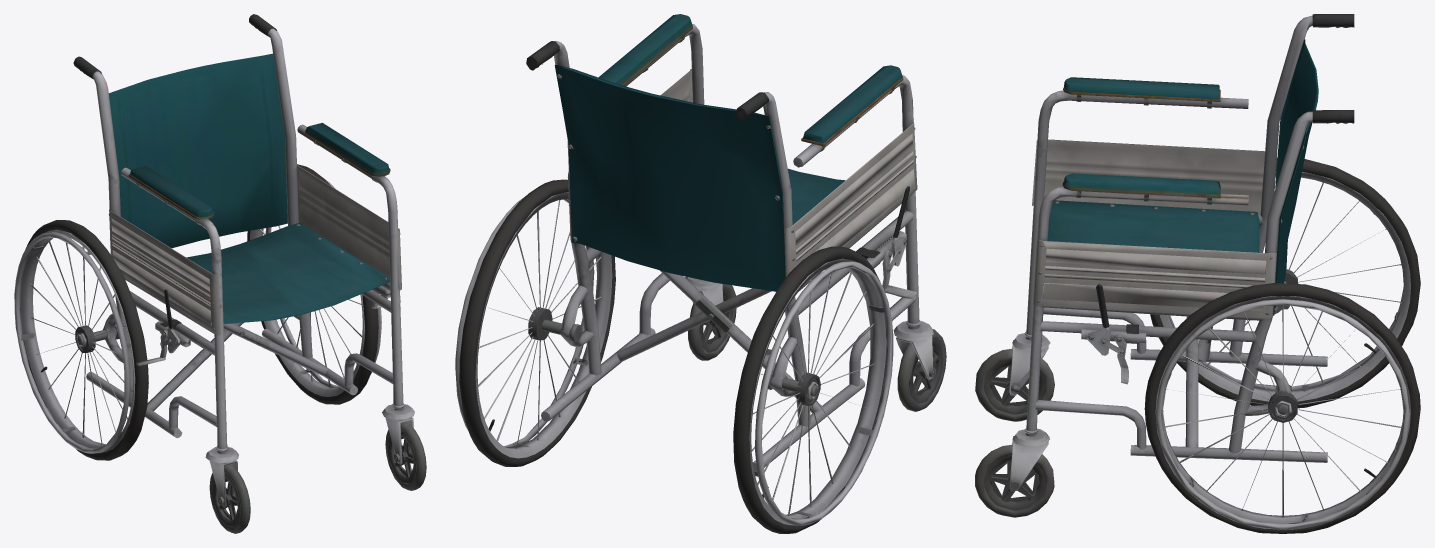
The model's file is wheelchair_01.glb.
3 views of the same model, side by side, from view 1: azimuth 30°, elevation 25°; view 2: azimuth 150°, elevation 25°; view 3: azimuth 270°, elevation 25° (orthographic). The views are drawn at different scales.
Parts seen in each view (by area): view 1: wheelchair_01; view 2: wheelchair_01; view 3: wheelchair_01.
Part boxes in pixels (bbox=[...]): wheelchair_01: bbox=[14, 14, 426, 533]; wheelchair_01: bbox=[455, 14, 946, 533]; wheelchair_01: bbox=[975, 14, 1420, 533].
Bounding box in the file's own units: 0.824 × 1.1 × 1.09.
Materials: 1 (1 with a texture image).
